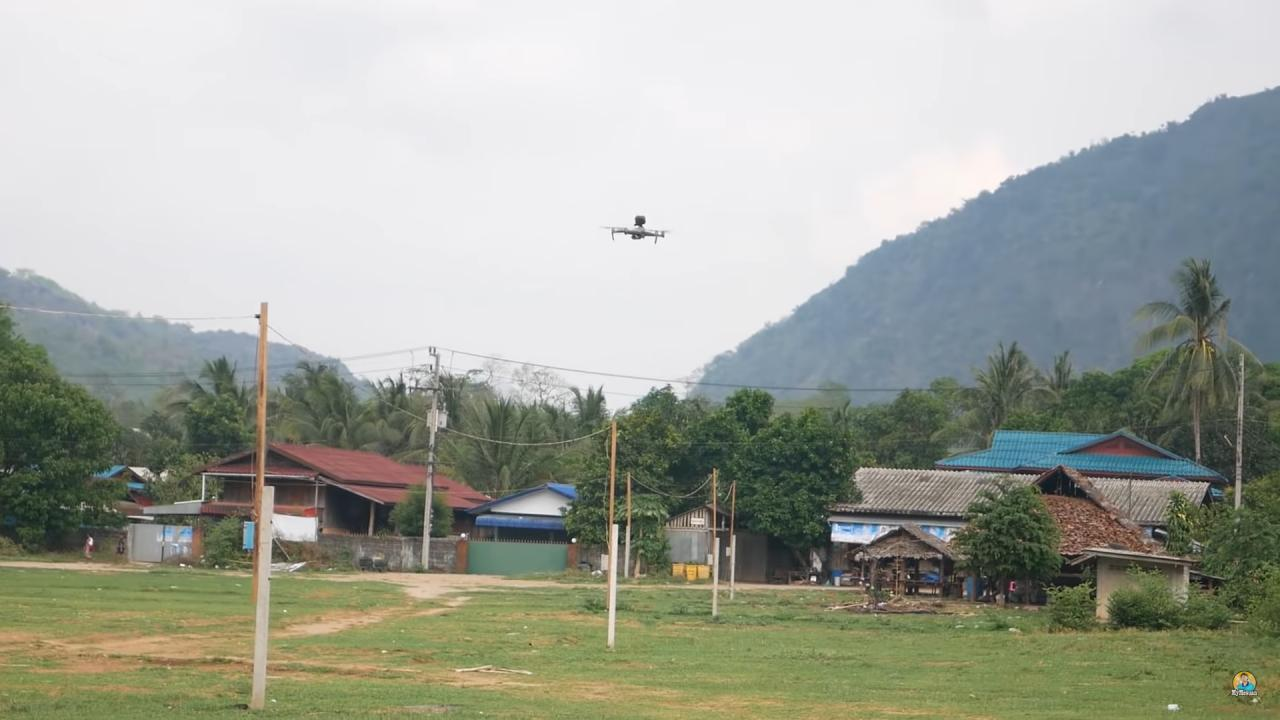Drone: (590, 198, 681, 259)
